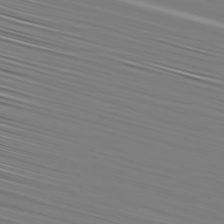cavities: (76, 27, 160, 133)
